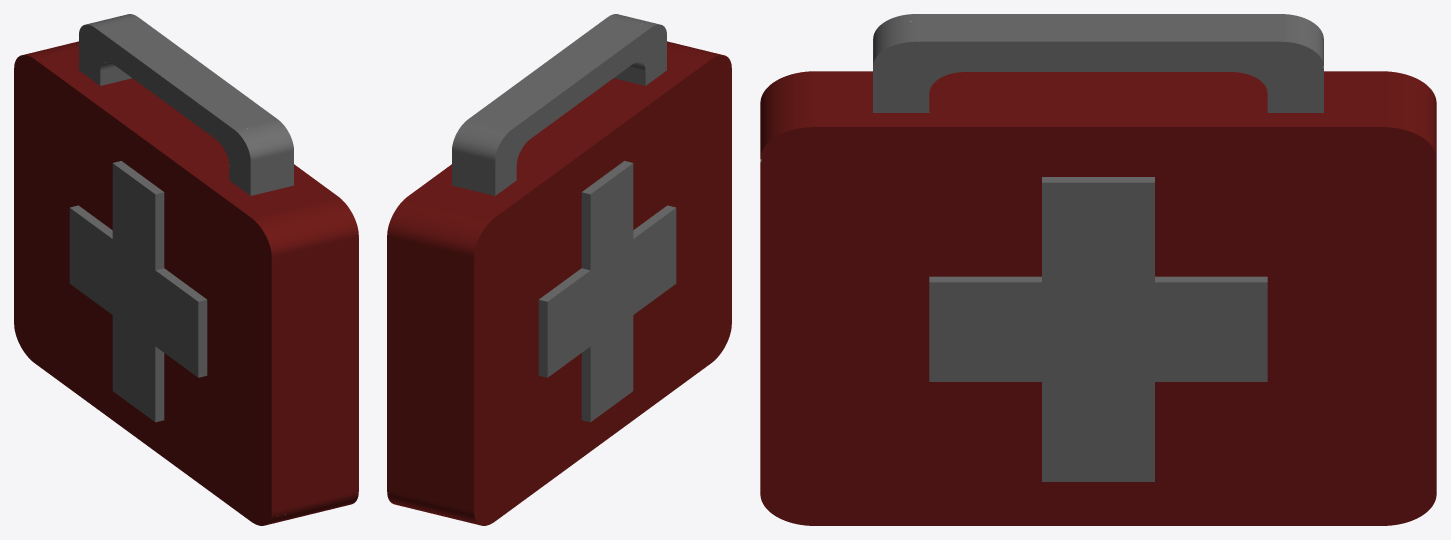
The model's file is medkit.fbx.
3 views of the same model, side by side, from view 1: azimuth 30°, elevation 25°; view 2: azimuth 150°, elevation 25°; view 3: azimuth 270°, elevation 25° (orthographic). The views are drawn at different scales.
Visible parts, largest first — view 1: Cube.001; view 2: Cube.001; view 3: Cube.001.
Part boxes in pixels (left/top/right/bottom): Cube.001: left=14, top=14, right=358, bottom=525; Cube.001: left=387, top=14, right=731, bottom=525; Cube.001: left=760, top=14, right=1436, bottom=525.
Bounding box in the file's own units: 72.32 × 236 × 307.
